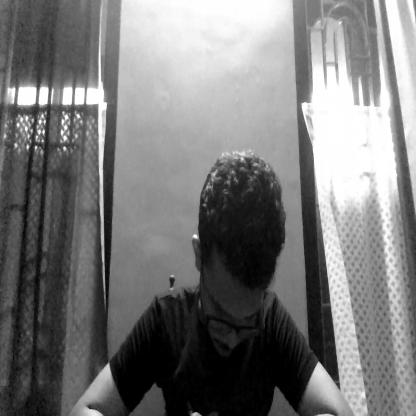Distracted: (202, 159, 286, 360)
